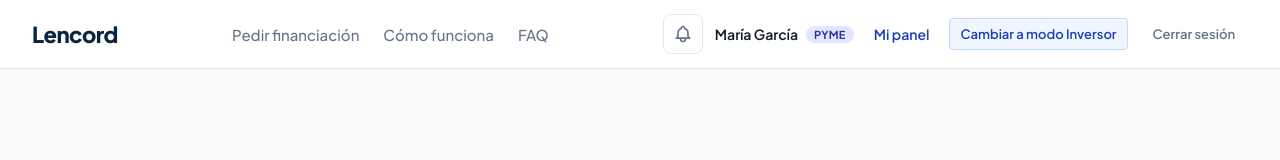
Test: Header Component › Dynamic Identity per Mode (Issue #61) › falls back to legal name if specific role name is not configured
Expected: the text with test id "header-user-name" reads "María García", [715,25,798,43]
Click the button with test id "header-role-switcher" at (1039, 34), box [950,18,1128,50]
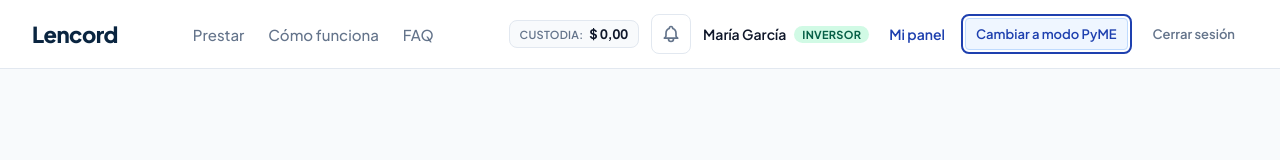
Expected: the text with test id "header-user-name" reads "María García", [703,25,786,43]
Expected: the text with test id "header-role-badge" reads "Inversor", [802,28,861,40]
